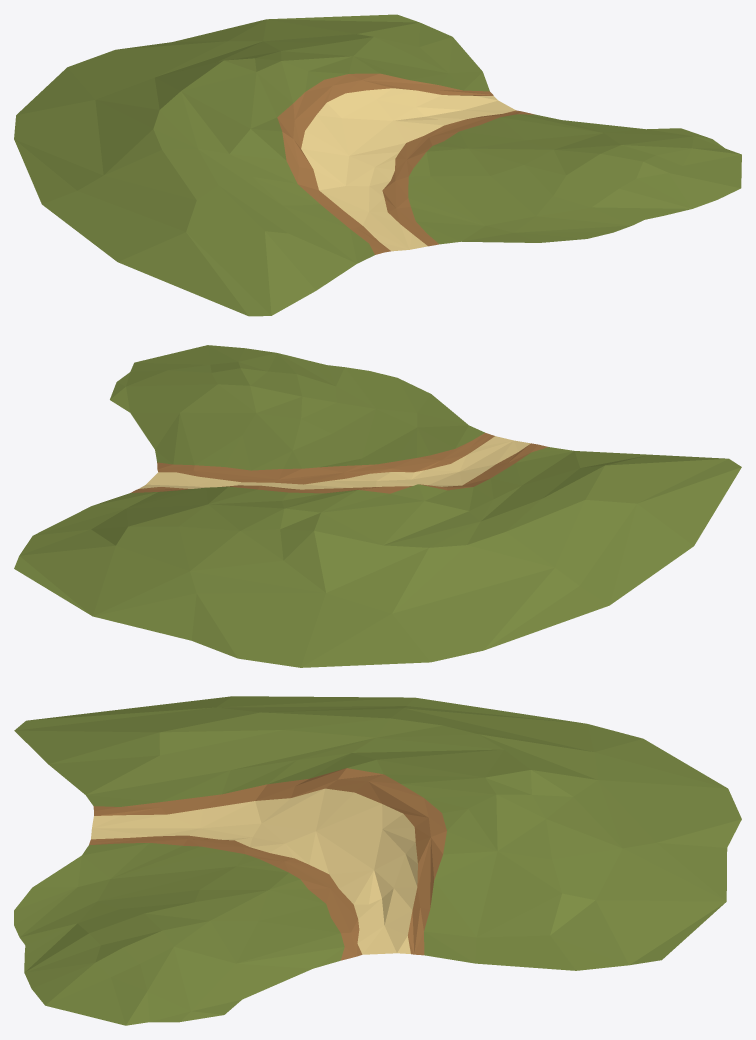
The model's file is Terrain_Road_Bend-01.FBX.
3 views of the same model, one above another, from view 1: azimuth 30°, elevation 25°; view 2: azimuth 150°, elevation 25°; view 3: azimuth 270°, elevation 25° (orthographic). The views are drawn at different scales.
Visible parts, largest first — view 1: Terrain_Road_Bend-01; view 2: Terrain_Road_Bend-01; view 3: Terrain_Road_Bend-01.
Boxes of the visible parts, <box> form: Terrain_Road_Bend-01: <box>14,14,741,316</box>; Terrain_Road_Bend-01: <box>14,345,741,667</box>; Terrain_Road_Bend-01: <box>14,696,741,1025</box>.
Size of the model in its own units: 3502 by 310 by 3269.
1 material, 1 textured.
